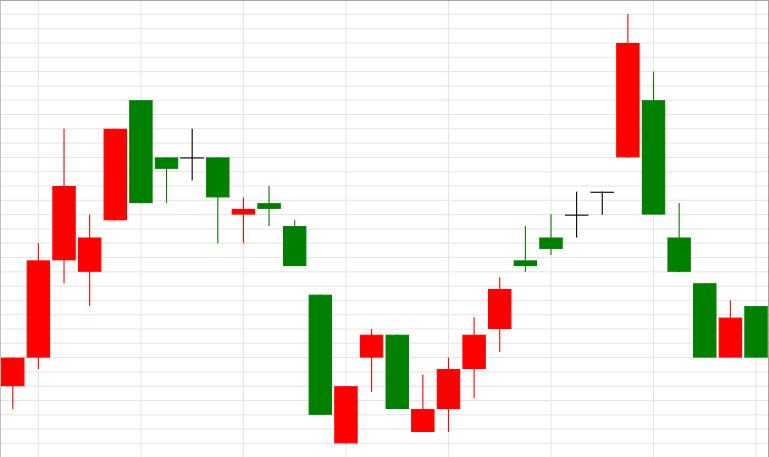three_black_crows_fall: (412, 13, 716, 432)
